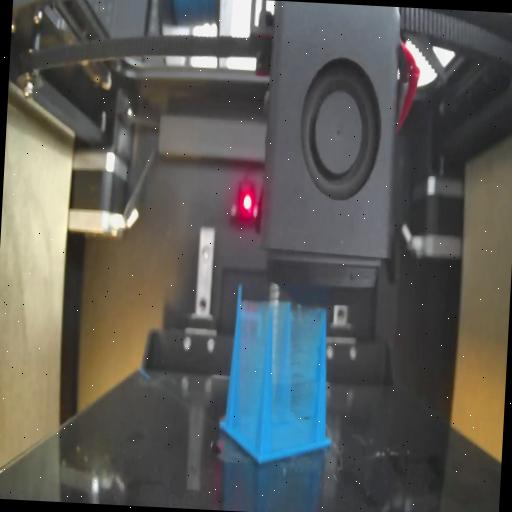stringing: (265, 304, 324, 458), (229, 297, 265, 454)
